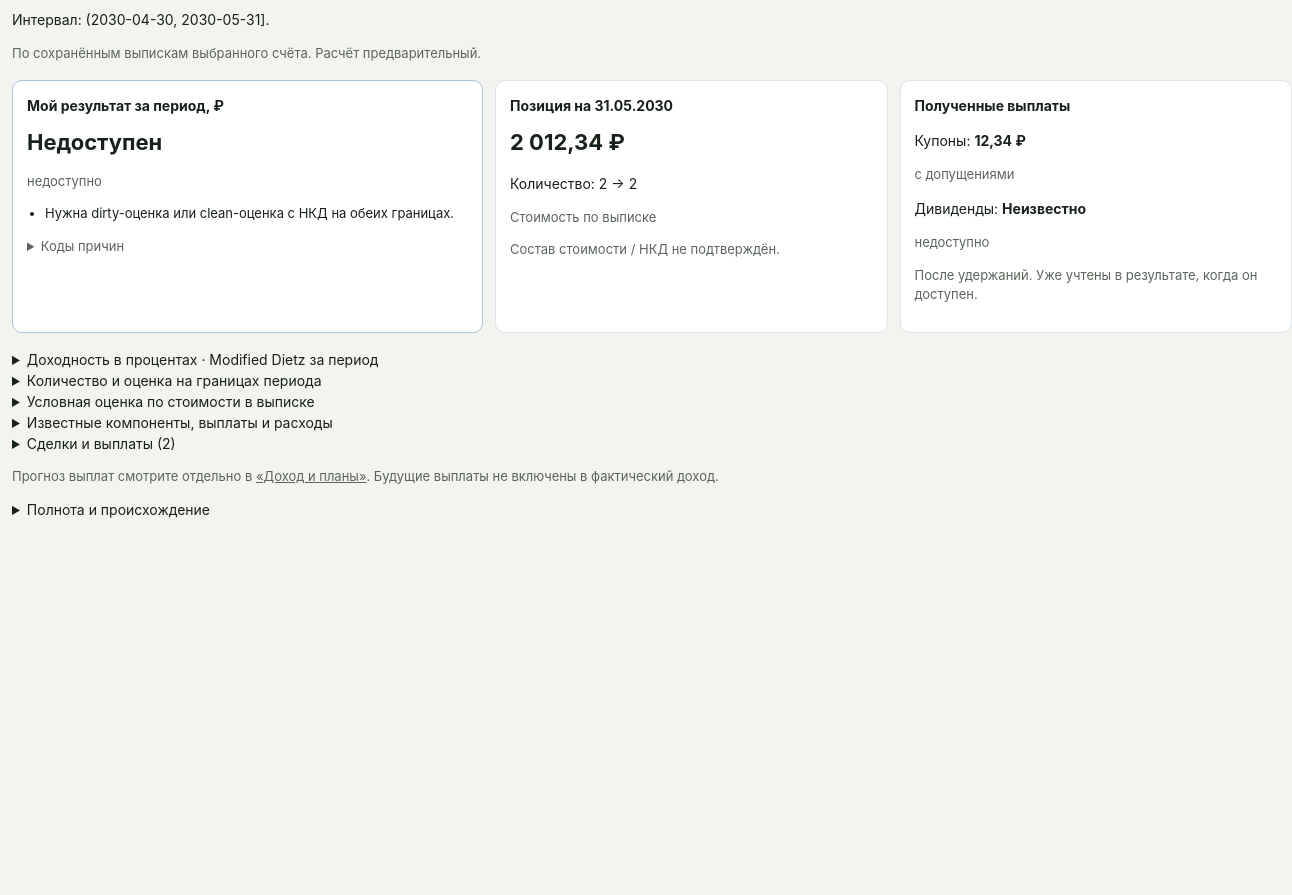
Test: original-bound identity is visible without pretending to have a legacy link
Click the heading "Сделки и выплаты (2)" at {"x": 101, "y": 443}, box [27, 434, 176, 452]
(page scrolled)
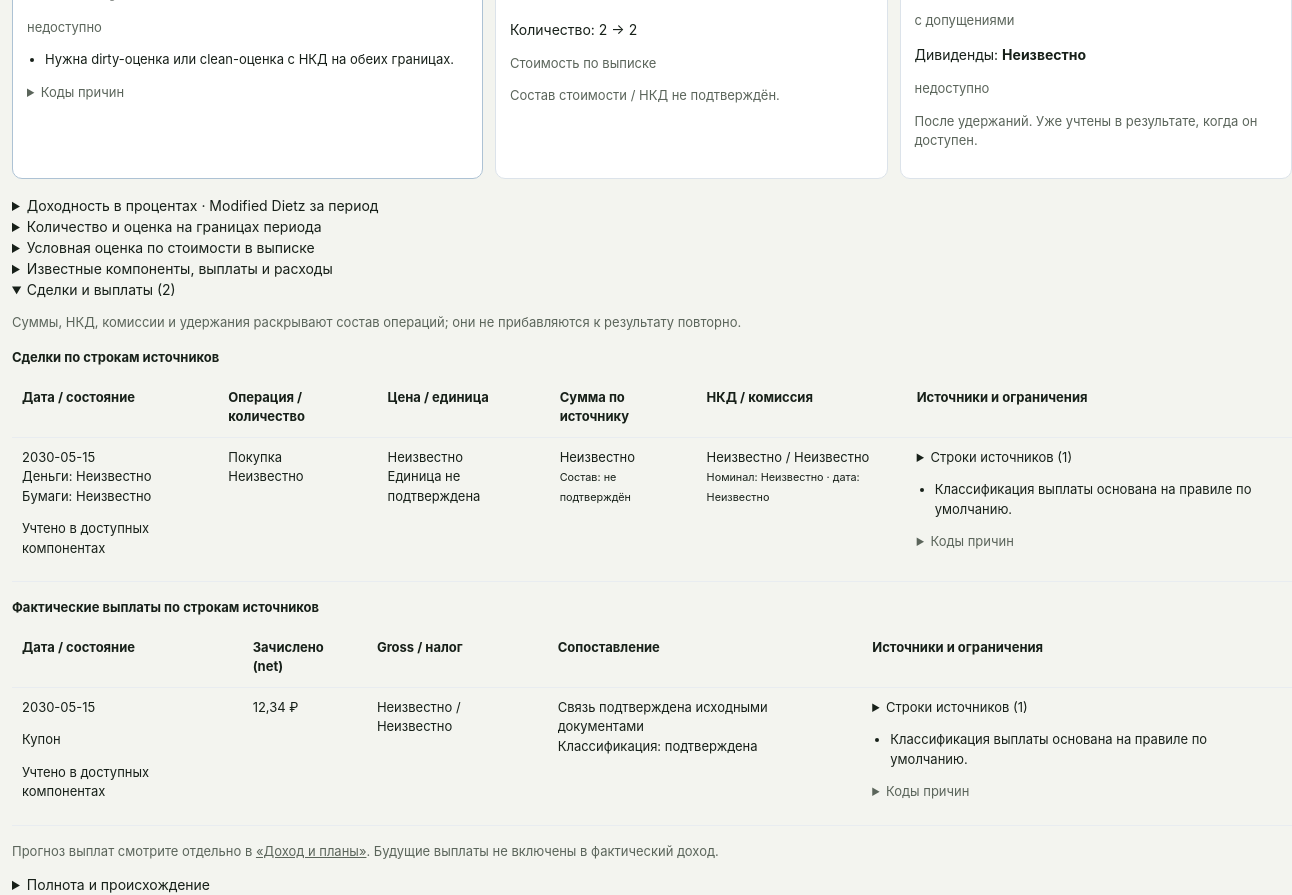
Check: the text "12,34 ₽" is shown, box [243, 687, 367, 825]
Check: the text "Связь подтверждена исходными документами" is shown, box [558, 698, 768, 734]
Check: the text "Классификация: подтверждена" is shown, box [548, 687, 862, 825]
